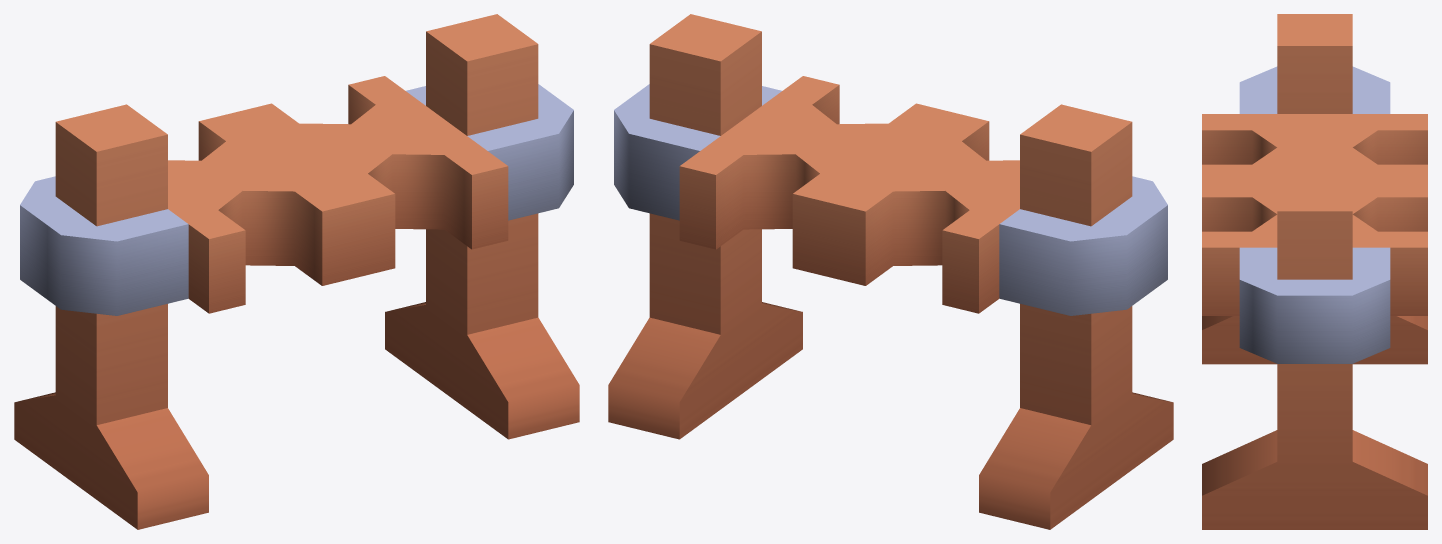
3 renders of one model, left to right at view 1: azimuth 30°, elevation 25°; view 2: azimuth 150°, elevation 25°; view 3: azimuth 270°, elevation 25°, orthographic. The views are drawn at different scales.
Parts seen in each view (by area): view 1: weapon_rack, Group; view 2: weapon_rack, Group; view 3: weapon_rack, Group.
Boxes of the visible parts, x1,y1,x2,y2 form: weapon_rack: [14, 14, 579, 529]; Group: [168, 76, 508, 313]; weapon_rack: [608, 14, 1173, 529]; Group: [679, 76, 1019, 313]; weapon_rack: [1202, 14, 1427, 529]; Group: [1202, 114, 1427, 315].
Size of the model in its own units: 0.72 by 0.4667 by 0.3.
1 material, 1 textured.
